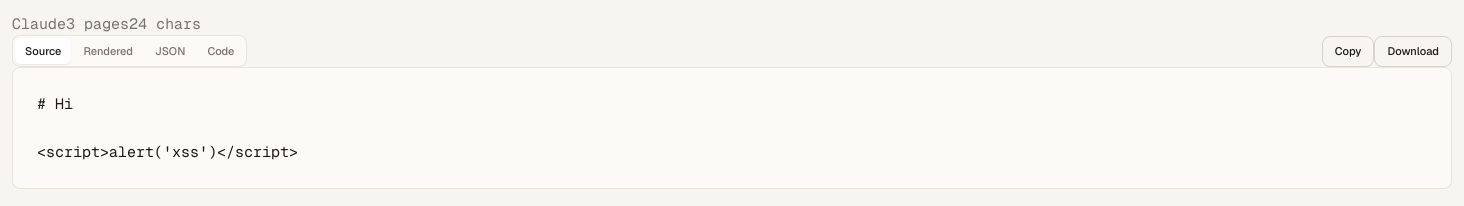
Test: MarkdownResults rendered view › strips <script> from embedded HTML
Click the button "Rendered" at (108, 51), box x1=74 y1=38 x2=143 y2=64
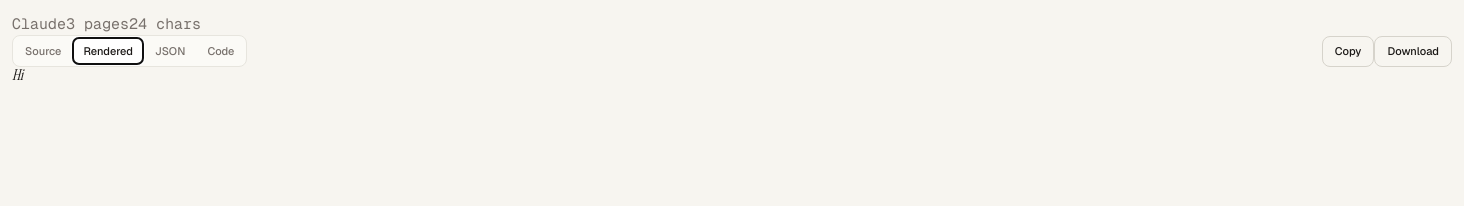
expect the text "alert('xss')" is gone: met
